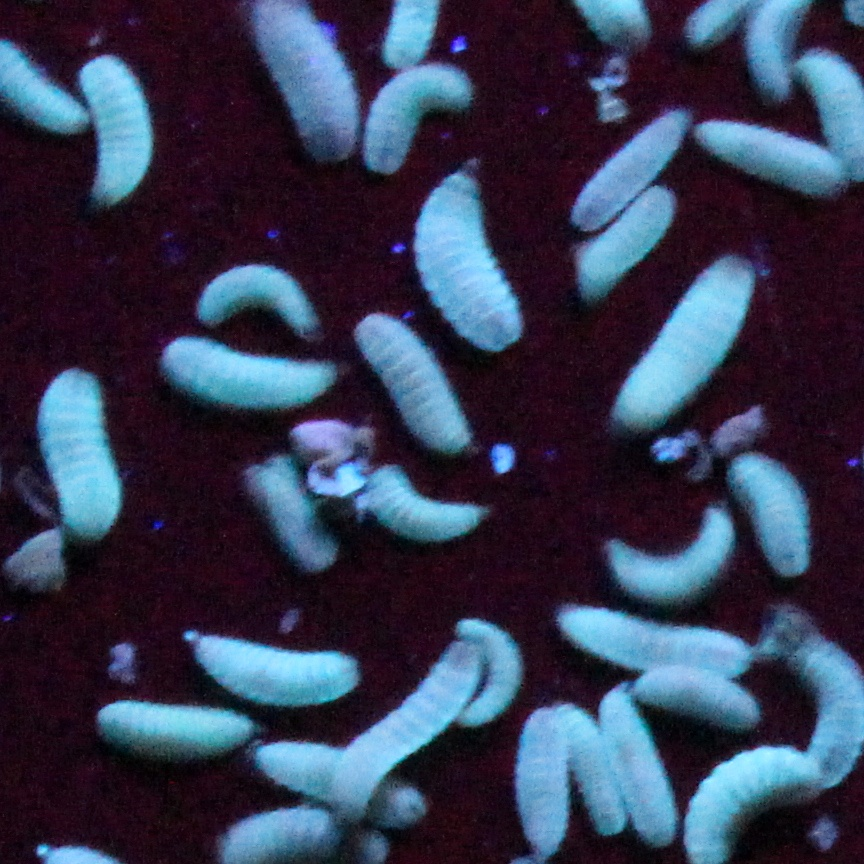larve: (612, 255, 755, 428), (337, 651, 463, 826), (349, 310, 459, 455), (37, 361, 122, 542), (410, 189, 512, 338), (573, 104, 692, 226), (551, 604, 755, 675), (161, 338, 337, 412), (251, 744, 422, 814), (700, 122, 849, 196), (371, 69, 471, 177), (86, 61, 157, 212), (577, 193, 675, 302), (602, 696, 673, 842), (204, 644, 363, 708), (614, 508, 728, 596), (247, 449, 329, 571), (726, 447, 808, 567), (357, 467, 484, 542), (561, 706, 628, 844), (204, 259, 329, 332), (94, 698, 249, 755), (453, 616, 526, 732), (633, 665, 751, 724), (518, 706, 557, 857)
